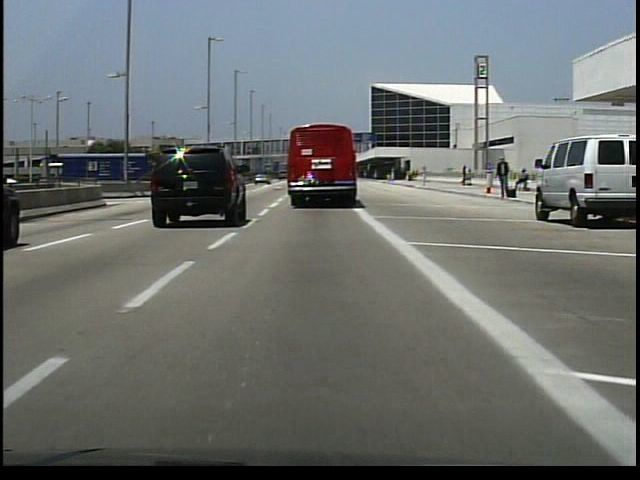person: (493, 155, 515, 206), (513, 167, 530, 195)
